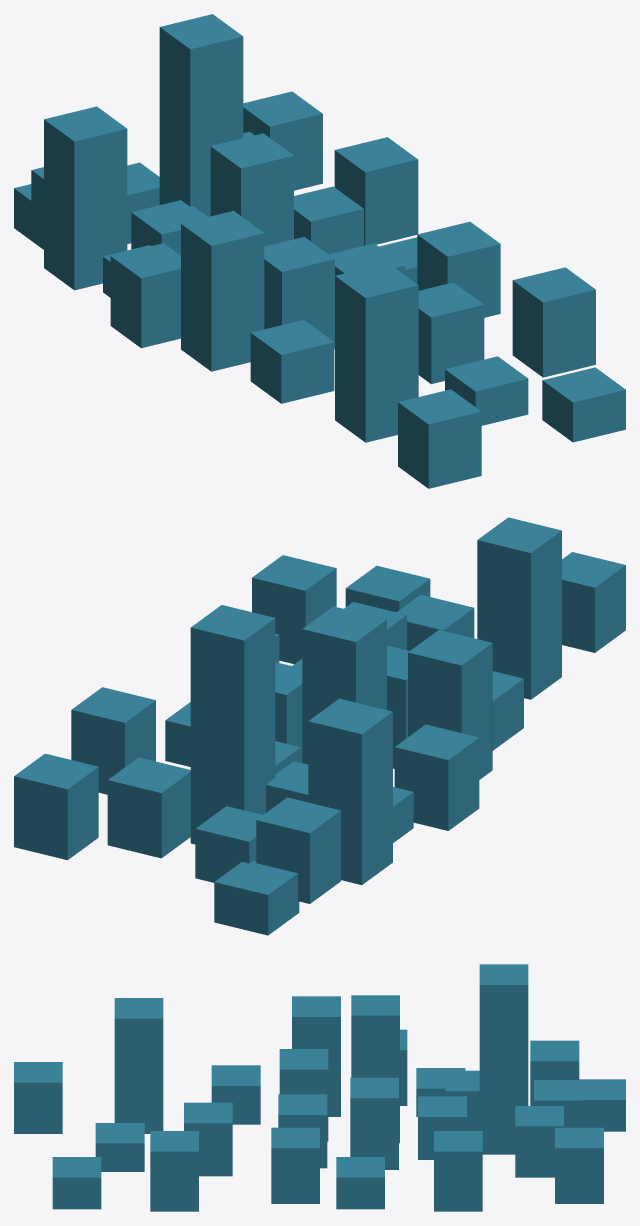
The model's file is Cons.fbx.
The picture shows the model from 3 angles, top to bottom: view 1: azimuth 30°, elevation 25°; view 2: azimuth 150°, elevation 25°; view 3: azimuth 270°, elevation 25°; orthographic projection. The views are drawn at different scales.
Parts seen in each view (by area): view 1: Cube.028, Cube.009, Cube.012, Cube.025, Cube.018, Cube.008, Cube.029, Cube.024, Cube.006, Cube.011, Cube.010, Cube.016 (+11 smaller); view 2: Cube.028, Cube.012, Cube.009, Cube.025, Cube.008, Cube.023, Cube.006, Cube.021, Cube.027, Cube.024, Cube.018, Cube.029 (+12 smaller); view 3: Cube.028, Cube.012, Cube.008, Cube.020, Cube.018, Cube.024, Cube.016, Cube.023, Cube.029, Cube.025, Cube.021, Cube.014 (+13 smaller).
Boxes of the visible parts, x1,y1,x2,y2 form: Cube.028: (159,14,243,216); Cube.009: (44,106,127,290); Cube.012: (335,263,418,442); Cube.025: (181,210,264,371); Cube.018: (512,267,595,377); Cube.008: (210,133,293,246); Cube.029: (398,389,481,488); Cube.024: (334,137,418,245); Cube.006: (110,243,180,348); Cube.011: (264,237,334,349); Cube.010: (250,320,334,403); Cube.016: (417,221,500,317); Cube.028: (190,605,275,844); Cube.012: (477,517,561,699); Cube.009: (308,698,392,884); Cube.025: (408,630,492,779); Cube.008: (302,606,386,764); Cube.023: (14,753,98,860); Cube.006: (394,724,479,830); Cube.021: (107,757,190,858); Cube.027: (256,797,340,903); Cube.024: (71,687,155,794); Cube.018: (252,555,336,664); Cube.029: (562,552,625,652); Cube.028: (479,964,528,1154); Cube.012: (114,998,163,1133); Cube.008: (351,995,399,1143); Cube.020: (350,1077,398,1169); Cube.018: (150,1131,198,1211); Cube.024: (434,1131,482,1211); Cube.016: (271,1127,319,1203); Cube.023: (555,1127,603,1203); Cube.029: (14,1062,62,1133); Cube.025: (292,996,340,1116); Cube.021: (515,1106,563,1177); Cube.014: (184,1102,232,1176).
Size of the model in its own units: 43489 by 28867 by 89109.
